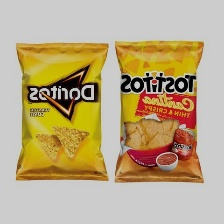snack: (10, 36, 113, 184), (110, 36, 210, 187)
